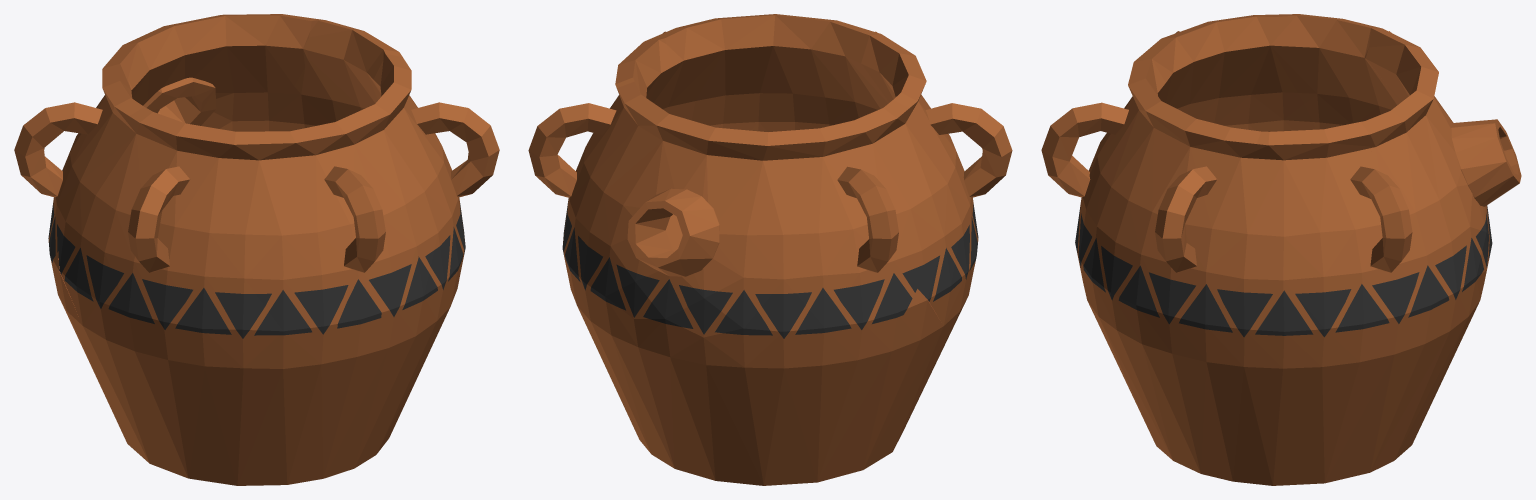
File: Pottery 17_3b.fbx
3 renders of one model, left to right at view 1: azimuth 30°, elevation 25°; view 2: azimuth 150°, elevation 25°; view 3: azimuth 270°, elevation 25°, orthographic.
Parts seen in each view (by area): view 1: Pottery 17_3.003, Pottery 17_3.007, Pottery 17_3b, Pottery 17_3.001, Pottery 17_3.002, Pottery 17_3.005, Pottery 17_3.004, Pottery 17_3.006; view 2: Pottery 17_3.001, Pottery 17_3.004, Pottery 17_3.002, Pottery 17_3.007, Pottery 17_3.003, Pottery 17_3.005, Pottery 17_3b; view 3: Pottery 17_3.005, Pottery 17_3.007, Pottery 17_3.006, Pottery 17_3.001, Pottery 17_3.003, Pottery 17_3b, Pottery 17_3.002, Pottery 17_3.004.
Part boxes in pixels (box(x1,y1,x2,y2)): Pottery 17_3.003: box(58, 107, 295, 404); Pottery 17_3.007: box(275, 54, 499, 397); Pottery 17_3b: box(109, 321, 398, 485); Pottery 17_3.001: box(103, 14, 316, 131); Pottery 17_3.002: box(14, 64, 143, 269); Pottery 17_3.005: box(260, 19, 402, 131); Pottery 17_3.004: box(53, 251, 156, 407); Pottery 17_3.006: box(378, 198, 465, 417); Pottery 17_3.001: box(589, 81, 825, 361); Pottery 17_3.004: box(593, 289, 945, 460); Pottery 17_3.002: box(756, 100, 926, 369); Pottery 17_3.007: box(652, 14, 889, 131); Pottery 17_3.003: box(861, 34, 1012, 349); Pottery 17_3.005: box(528, 38, 673, 340); Pottery 17_3b: box(622, 354, 940, 485); Pottery 17_3.005: box(1206, 121, 1477, 424); Pottery 17_3.007: box(1041, 59, 1261, 364); Pottery 17_3.006: box(1117, 272, 1297, 459); Pottery 17_3.001: box(1365, 28, 1521, 290); Pottery 17_3.003: box(1134, 14, 1315, 131); Pottery 17_3b: box(1115, 359, 1421, 485); Pottery 17_3.002: box(1270, 14, 1401, 129); Pottery 17_3.004: box(1324, 289, 1482, 436).
Size of the model in its own units: 88.77 by 83.24 by 102.
